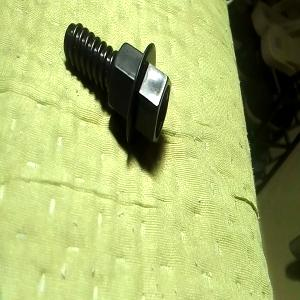parafuso: (64, 22, 172, 145)
